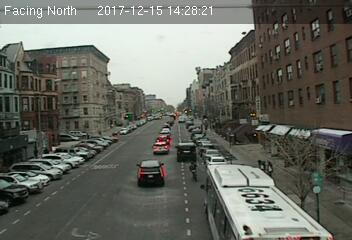bicycle: (187, 160, 199, 184)
bus: (203, 162, 331, 240)
car: (136, 161, 165, 187), (175, 142, 196, 162), (152, 142, 168, 154), (155, 134, 170, 140)
pedestrian: (265, 158, 276, 178)
